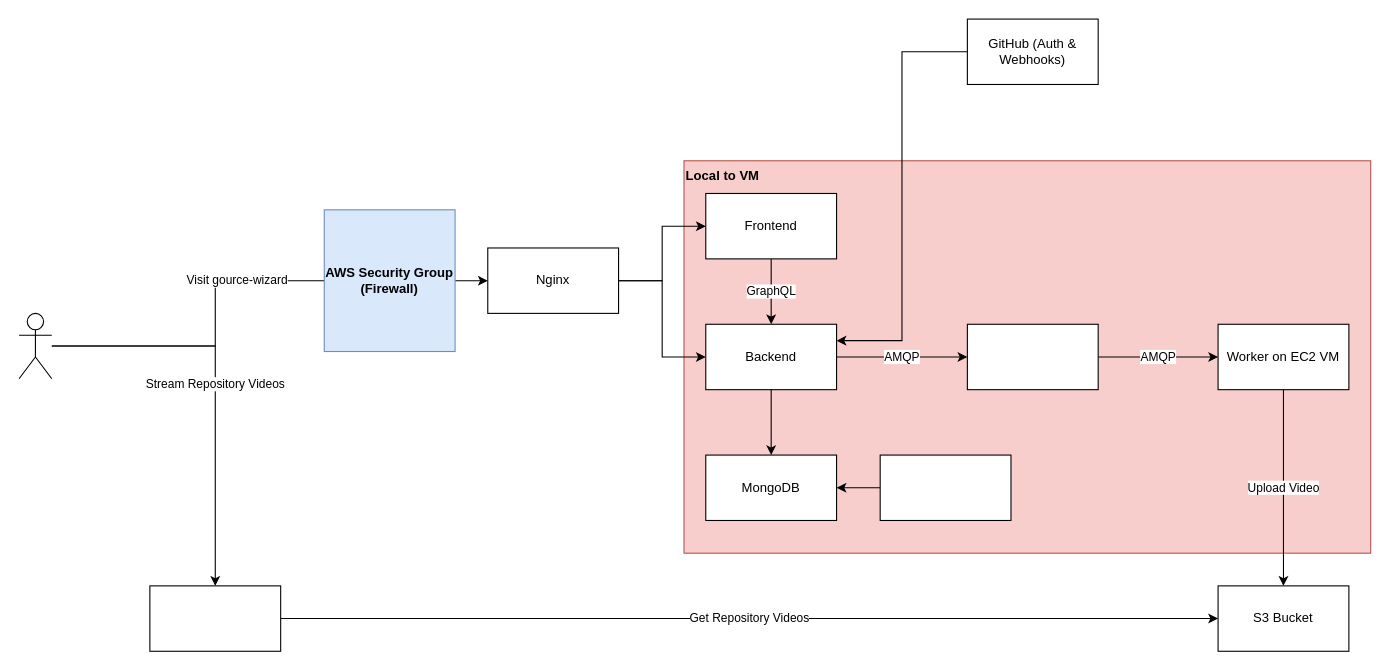
Image size: 1390x670. Some labels were removed from this diagram. Each missing label, with the box of its shape:
Cloudfront CDN: (149, 585, 281, 651)
MongoDB Admin Page (Mongo Express): (879, 454, 1011, 520)
RabbitMQ: (966, 323, 1098, 390)
User: (18, 312, 52, 379)
